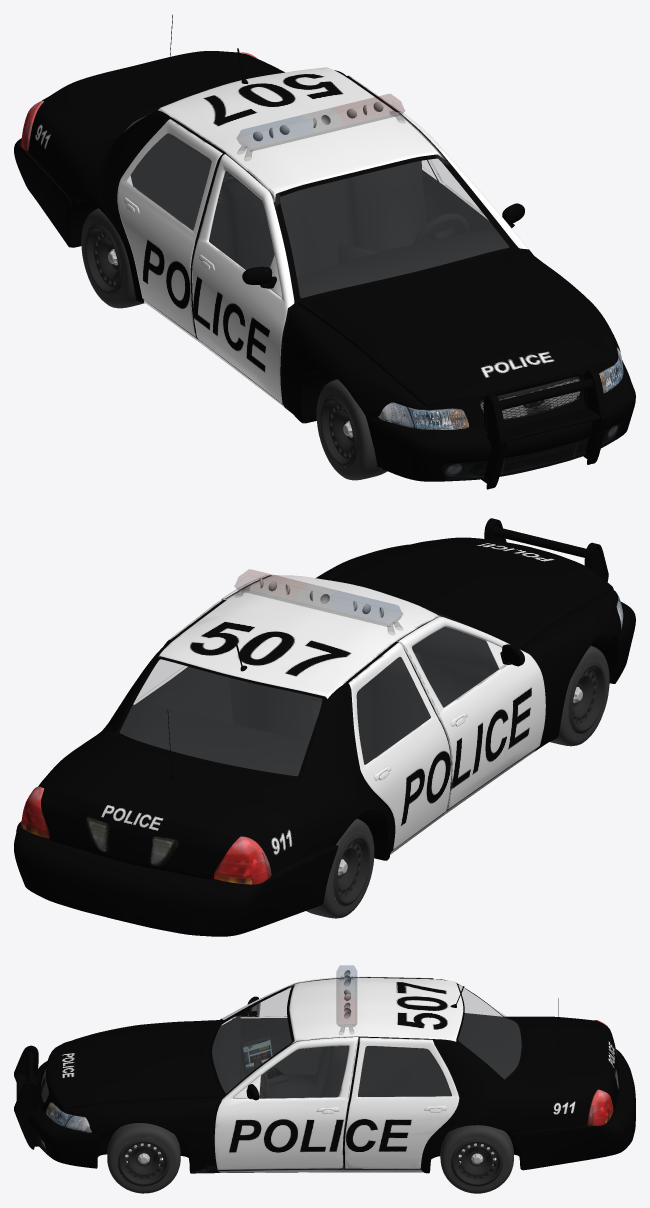
File: police.glb
3 views of the same model, one above another, from view 1: azimuth 30°, elevation 25°; view 2: azimuth 150°, elevation 25°; view 3: azimuth 270°, elevation 25° (orthographic). The views are drawn at different scales.
Parts seen in each view (by area): view 1: body, wheel_RR, wheel_FR; view 2: body, wheel_FR, wheel_RR; view 3: body, wheel_RL, wheel_FL.
Part boxes in pixels (left/top/right/bottom): body: left=14, top=14, right=635, bottom=489; wheel_RR: left=85, top=224, right=122, bottom=295; wheel_FR: left=320, top=396, right=357, bottom=467; body: left=14, top=518, right=635, bottom=936; wheel_FR: left=568, top=661, right=605, bottom=733; wheel_RR: left=333, top=834, right=370, bottom=905; body: left=14, top=965, right=635, bottom=1193; wheel_RL: left=451, top=1139, right=503, bottom=1186; wheel_FL: left=118, top=1139, right=169, bottom=1186.
Bounding box in the file's own units: 1.96 × 1.57 × 5.3.
7 materials, 5 textured.
